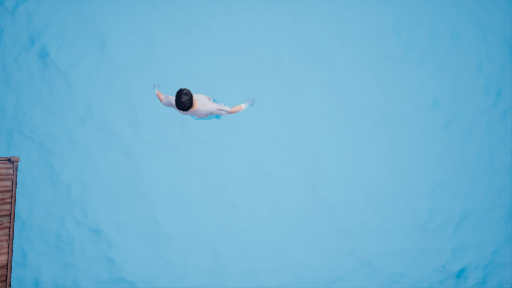person: (147, 77, 252, 126)
